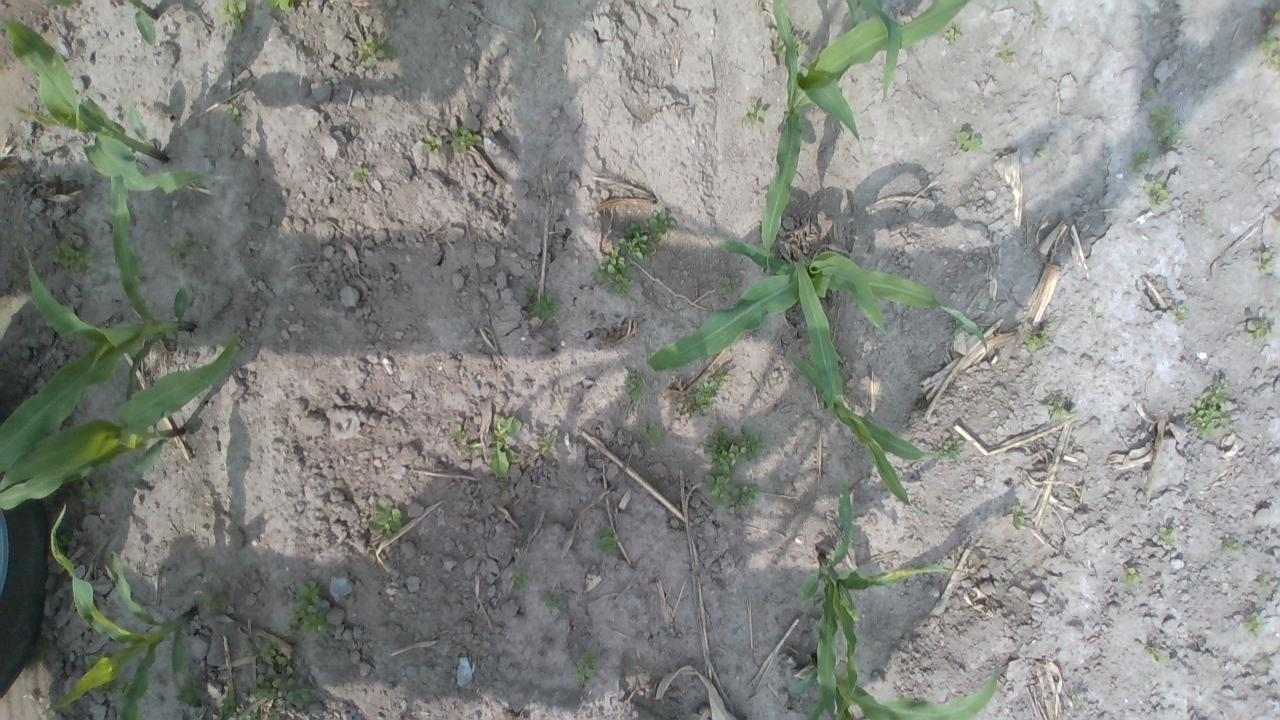Maize: (0, 175, 196, 477), (759, 0, 974, 272), (647, 235, 987, 379), (0, 11, 233, 192), (0, 335, 238, 511), (798, 488, 962, 720), (788, 258, 932, 512), (47, 505, 198, 720), (794, 647, 1000, 720), (842, 0, 903, 102), (42, 0, 159, 45)
Weeds: (252, 640, 312, 713), (616, 208, 676, 263), (703, 426, 768, 474), (280, 582, 331, 640), (1186, 378, 1232, 439), (592, 245, 642, 295), (487, 414, 522, 478), (349, 31, 396, 66), (368, 498, 404, 539), (1150, 106, 1184, 149), (48, 242, 96, 272), (696, 376, 729, 417), (523, 286, 559, 321), (158, 235, 200, 265), (174, 676, 204, 714), (704, 474, 738, 507), (78, 478, 115, 506), (568, 652, 600, 684), (217, 0, 248, 33), (217, 694, 256, 720), (1258, 26, 1280, 72), (1142, 174, 1170, 210), (1022, 320, 1052, 353), (449, 124, 482, 152), (954, 127, 982, 158), (733, 484, 760, 514), (100, 676, 132, 701), (624, 369, 648, 402), (592, 525, 618, 554), (1246, 318, 1275, 342), (936, 438, 966, 460), (420, 131, 444, 156), (1047, 398, 1071, 422), (742, 102, 767, 124), (511, 567, 532, 593), (197, 590, 224, 610), (538, 432, 556, 462), (1246, 610, 1266, 636), (265, 0, 297, 16), (1130, 150, 1152, 173), (640, 422, 664, 443), (1120, 568, 1141, 590), (1256, 250, 1276, 272), (543, 592, 567, 610), (349, 161, 370, 181), (1009, 503, 1025, 528), (1157, 526, 1177, 546), (82, 653, 106, 669), (944, 25, 962, 46), (793, 32, 808, 56), (448, 424, 466, 444), (674, 398, 692, 417), (1224, 538, 1242, 557), (718, 277, 739, 293), (1145, 646, 1166, 662), (223, 101, 239, 120), (1032, 145, 1048, 163), (1000, 46, 1016, 63), (1256, 574, 1271, 592), (951, 319, 966, 336), (774, 38, 787, 57), (1032, 2, 1045, 21), (1142, 85, 1154, 101), (1070, 692, 1083, 706), (1200, 208, 1211, 222), (1174, 306, 1186, 318), (270, 710, 282, 720), (1256, 660, 1269, 668), (1086, 304, 1096, 313)
